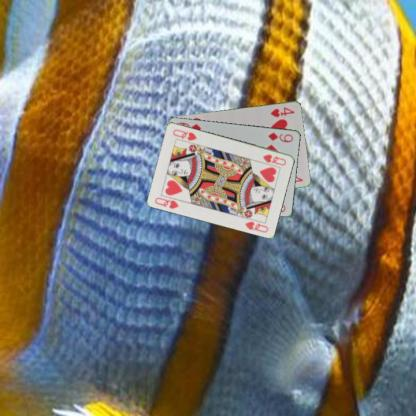4h: (268, 104, 296, 118)
9d: (266, 130, 295, 144)
Qh: (153, 194, 180, 210), (261, 152, 287, 166)
